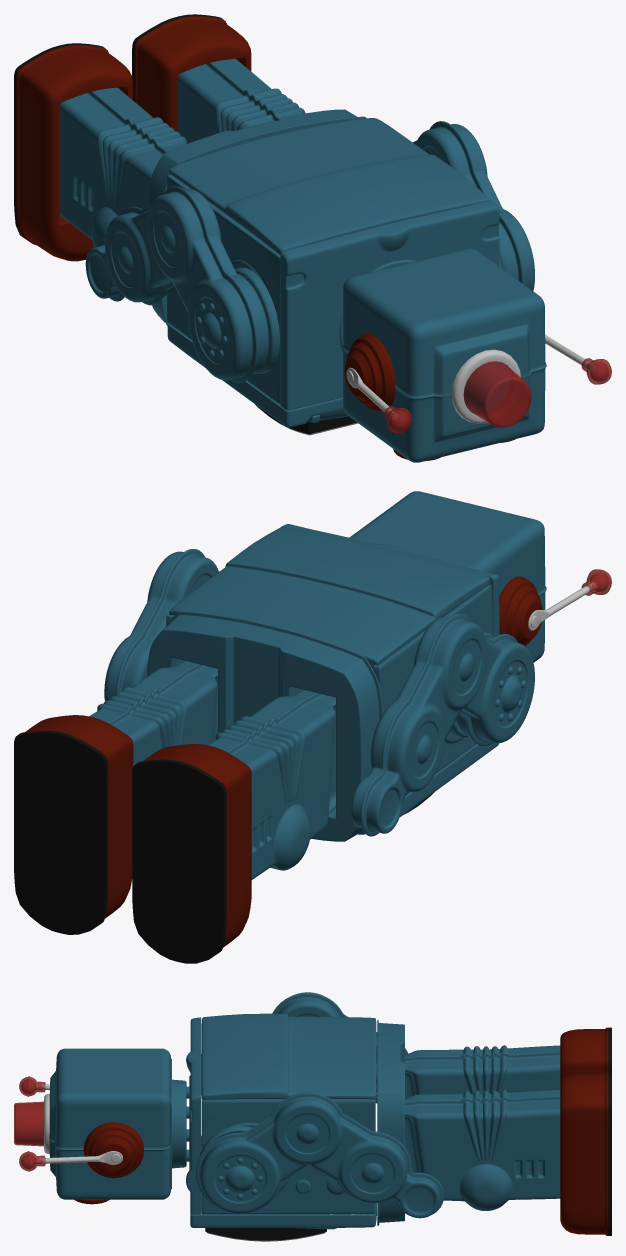
Rendered from 11696_robot_v1_L3.obj.
3 renders of one model, top to bottom at view 1: azimuth 30°, elevation 25°; view 2: azimuth 150°, elevation 25°; view 3: azimuth 270°, elevation 25°, orthographic. The views are drawn at different scales.
Visible parts, largest first — view 1: robot_body, robot_red, robot_lights, robot_chrome, robot_body_black; view 2: robot_body, robot_body_black, robot_red, robot_chrome; view 3: robot_body, robot_red, robot_lights, robot_body_black, robot_chrome.
Part boxes in pixels (x1,y1,x2,y2): robot_body: (59, 58, 546, 462); robot_red: (16, 16, 395, 410); robot_lights: (384, 358, 611, 433); robot_chrome: (346, 334, 595, 423); robot_body_black: (14, 14, 356, 433); robot_body: (89, 491, 546, 879); robot_body_black: (14, 730, 434, 963); robot_red: (20, 576, 542, 950); robot_chrome: (528, 582, 595, 630); robot_body: (49, 992, 560, 1229); robot_red: (83, 1027, 608, 1235); robot_lights: (14, 1076, 49, 1171); robot_body_black: (205, 1027, 611, 1240); robot_chrome: (37, 1084, 332, 1214).
Bounding box in the file's own units: 15.19 × 10.43 × 32.97.
Materials: 7 (2 with a texture image).
